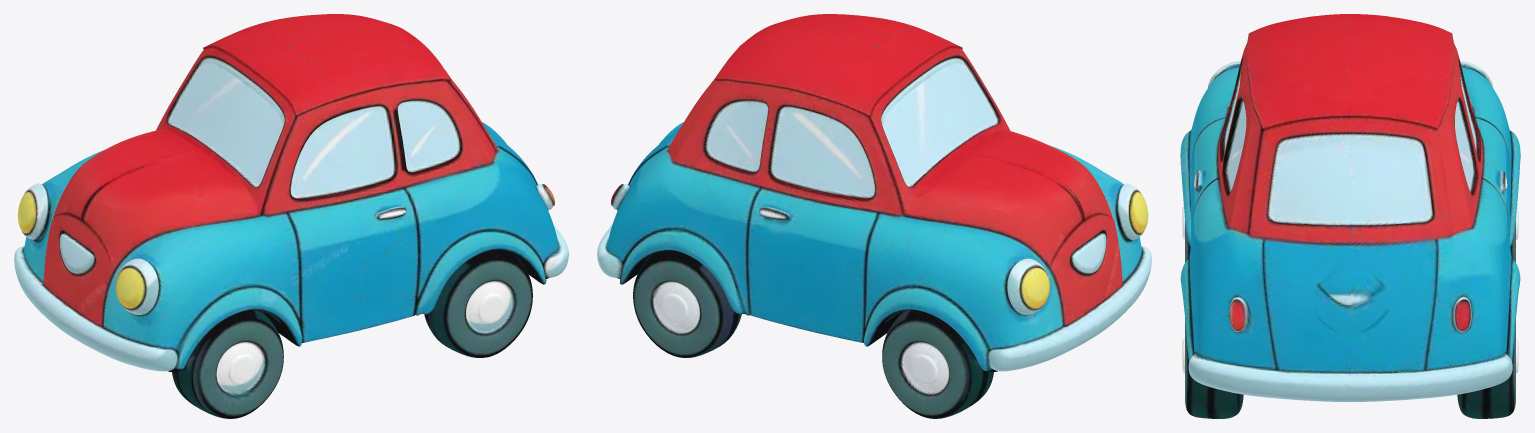
Rendered from Macchinina.glb.
The picture shows the model from 3 angles, left to right: view 1: azimuth 30°, elevation 25°; view 2: azimuth 150°, elevation 25°; view 3: azimuth 270°, elevation 25°; orthographic projection. The views are drawn at different scales.
Size of the model in its own units: 1.9 by 1.13 by 1.09.
Materials: 1 (1 with a texture image).
